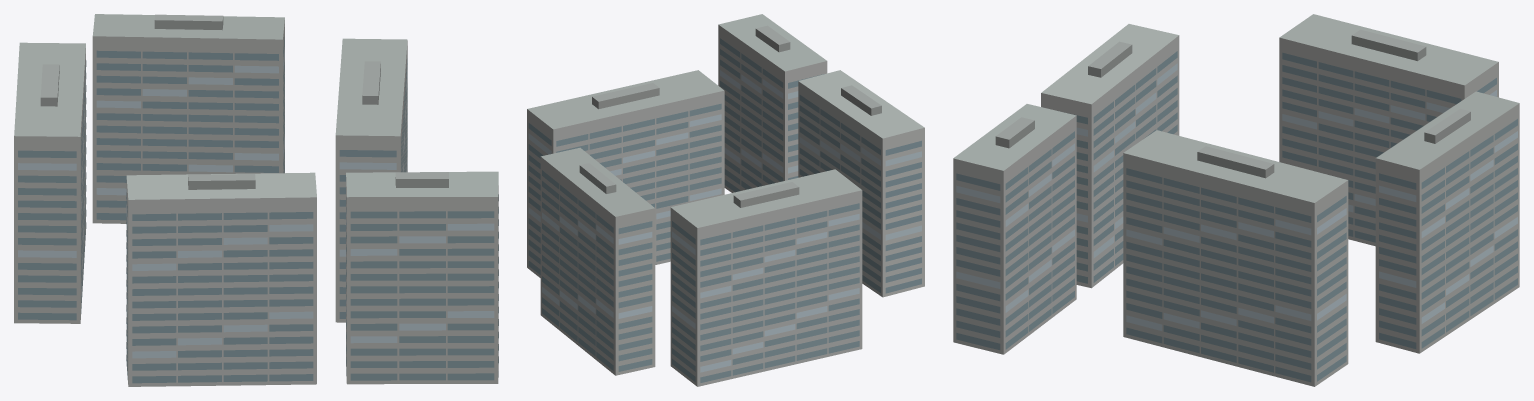
File: apt-a15786118.glb
The picture shows the model from 3 angles, left to right: view 1: azimuth 30°, elevation 25°; view 2: azimuth 150°, elevation 25°; view 3: azimuth 270°, elevation 25°; orthographic projection. The views are drawn at different scales.
Parts seen in each view (by area): view 1: apt-a15786118; view 2: apt-a15786118; view 3: apt-a15786118.
Boxes of the visible parts, box(x1,y1,x2,y2) form: apt-a15786118: box(14, 14, 498, 386); apt-a15786118: box(527, 14, 924, 386); apt-a15786118: box(953, 14, 1519, 386).
Size of the model in its own units: 96.86 by 46 by 123.
